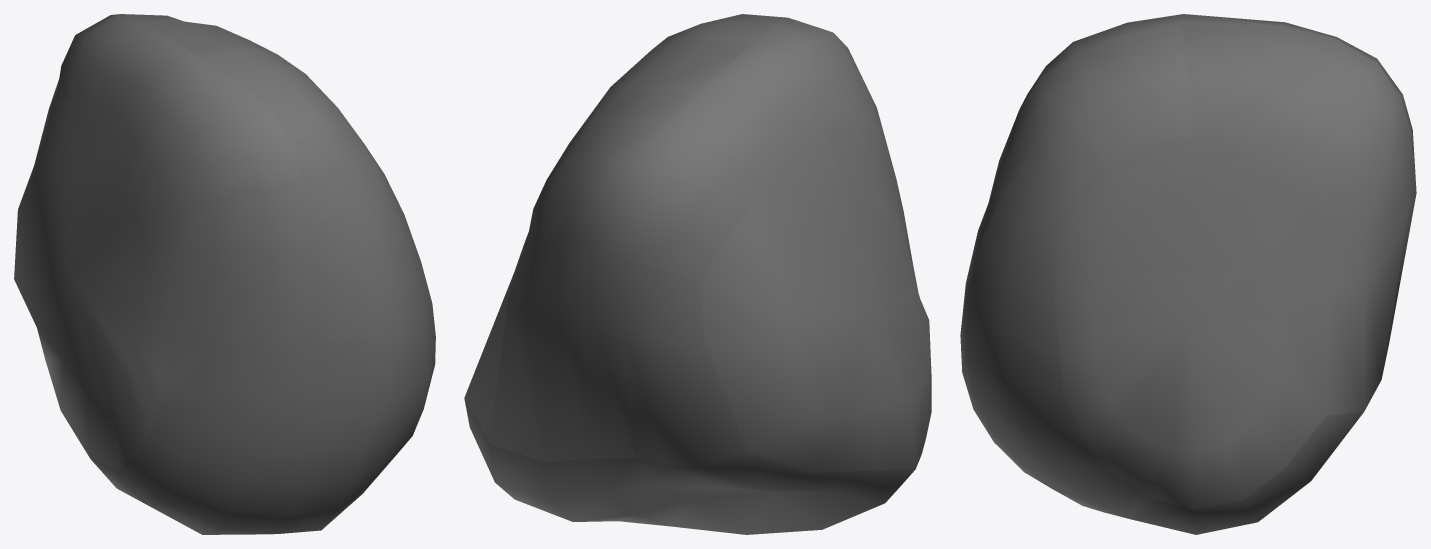
File: Pedra 1.fbx
The picture shows the model from 3 angles, left to right: view 1: azimuth 30°, elevation 25°; view 2: azimuth 150°, elevation 25°; view 3: azimuth 270°, elevation 25°; orthographic projection. The views are drawn at different scales.
Parts seen in each view (by area): view 1: Plane.001; view 2: Plane.001; view 3: Plane.001.
Part boxes in pixels (box(x1,y1,x2,y2)): Plane.001: box(14, 14, 435, 534); Plane.001: box(464, 14, 931, 534); Plane.001: box(960, 14, 1416, 534).
Bounding box in the file's own units: 82.07 × 106 × 97.98.
1 material, 1 textured.
